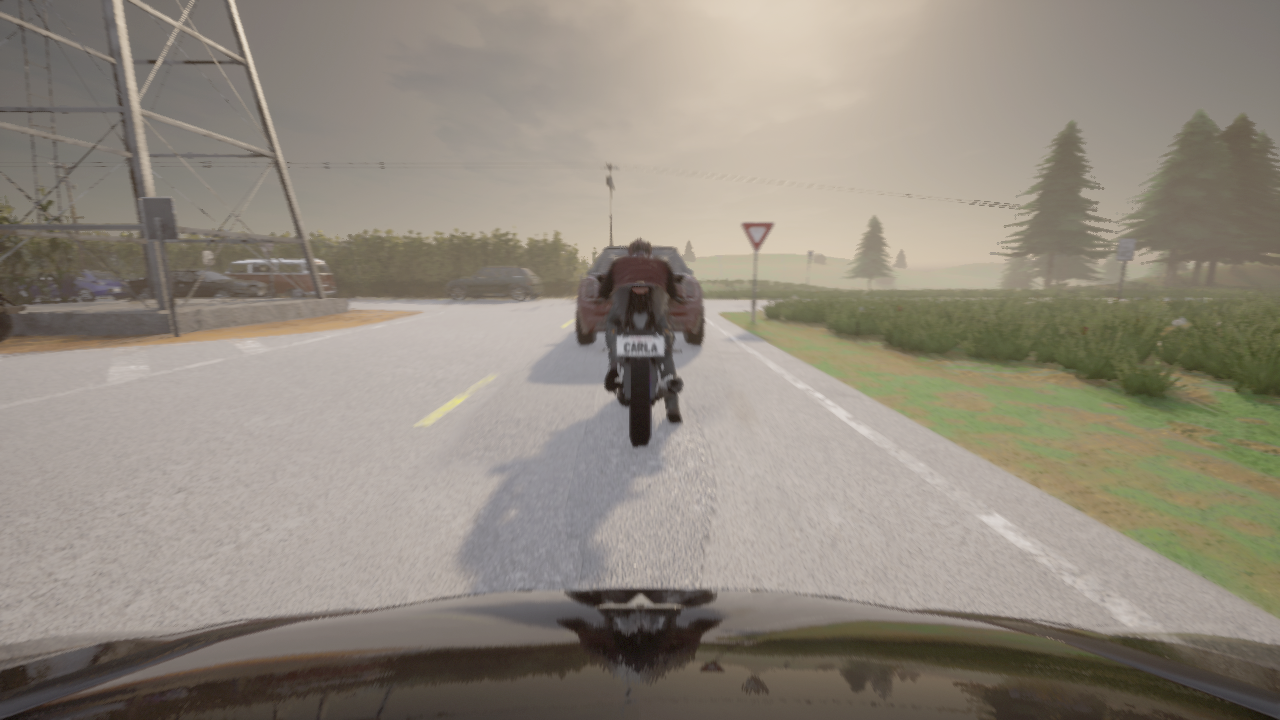cyclist: (0, 588, 1279, 719), (595, 275, 684, 446), (576, 246, 703, 344), (224, 259, 335, 297), (127, 269, 269, 298), (13, 271, 127, 301), (445, 266, 542, 301)
